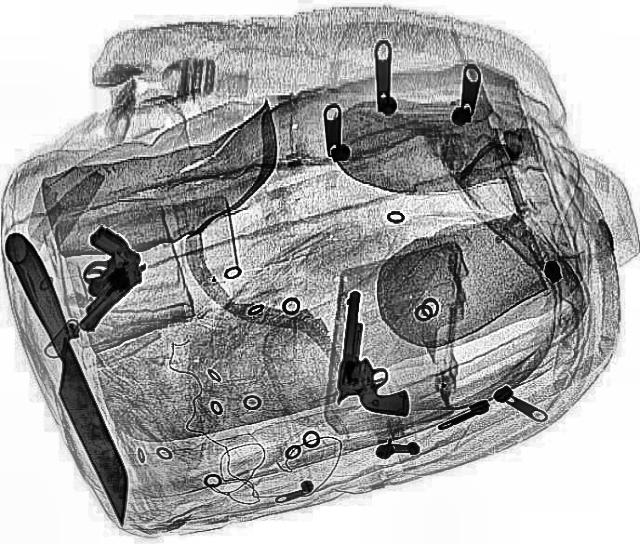Gun: (32, 223, 162, 332), (330, 290, 420, 416)
Knife: (0, 227, 148, 528)
